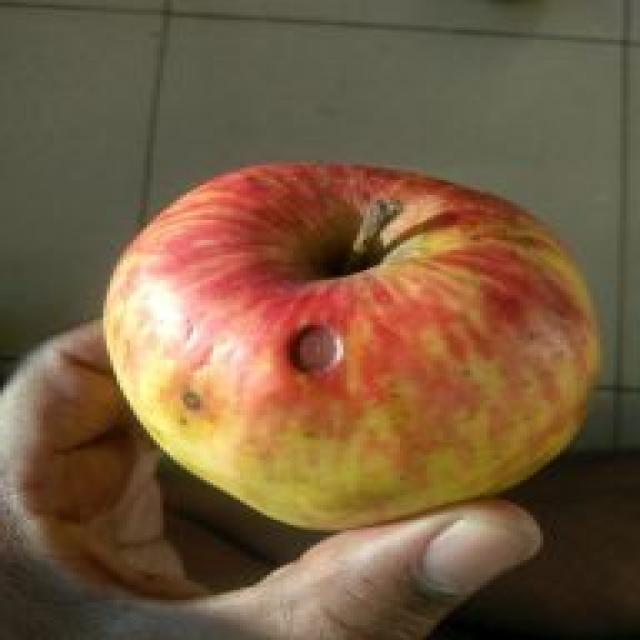Bad_Apple: (105, 165, 597, 529)
